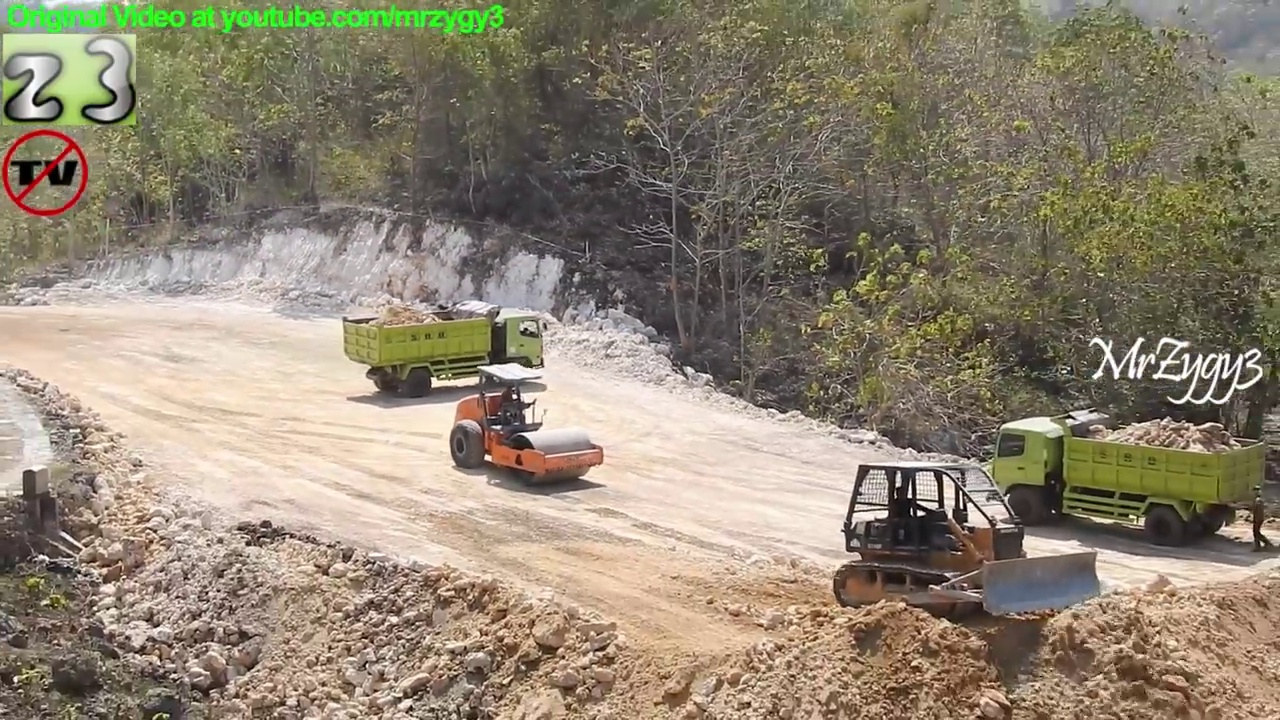bulldozer: (833, 457, 1106, 626)
compactor: (448, 361, 609, 493)
truck: (977, 405, 1272, 551), (336, 296, 553, 402)
